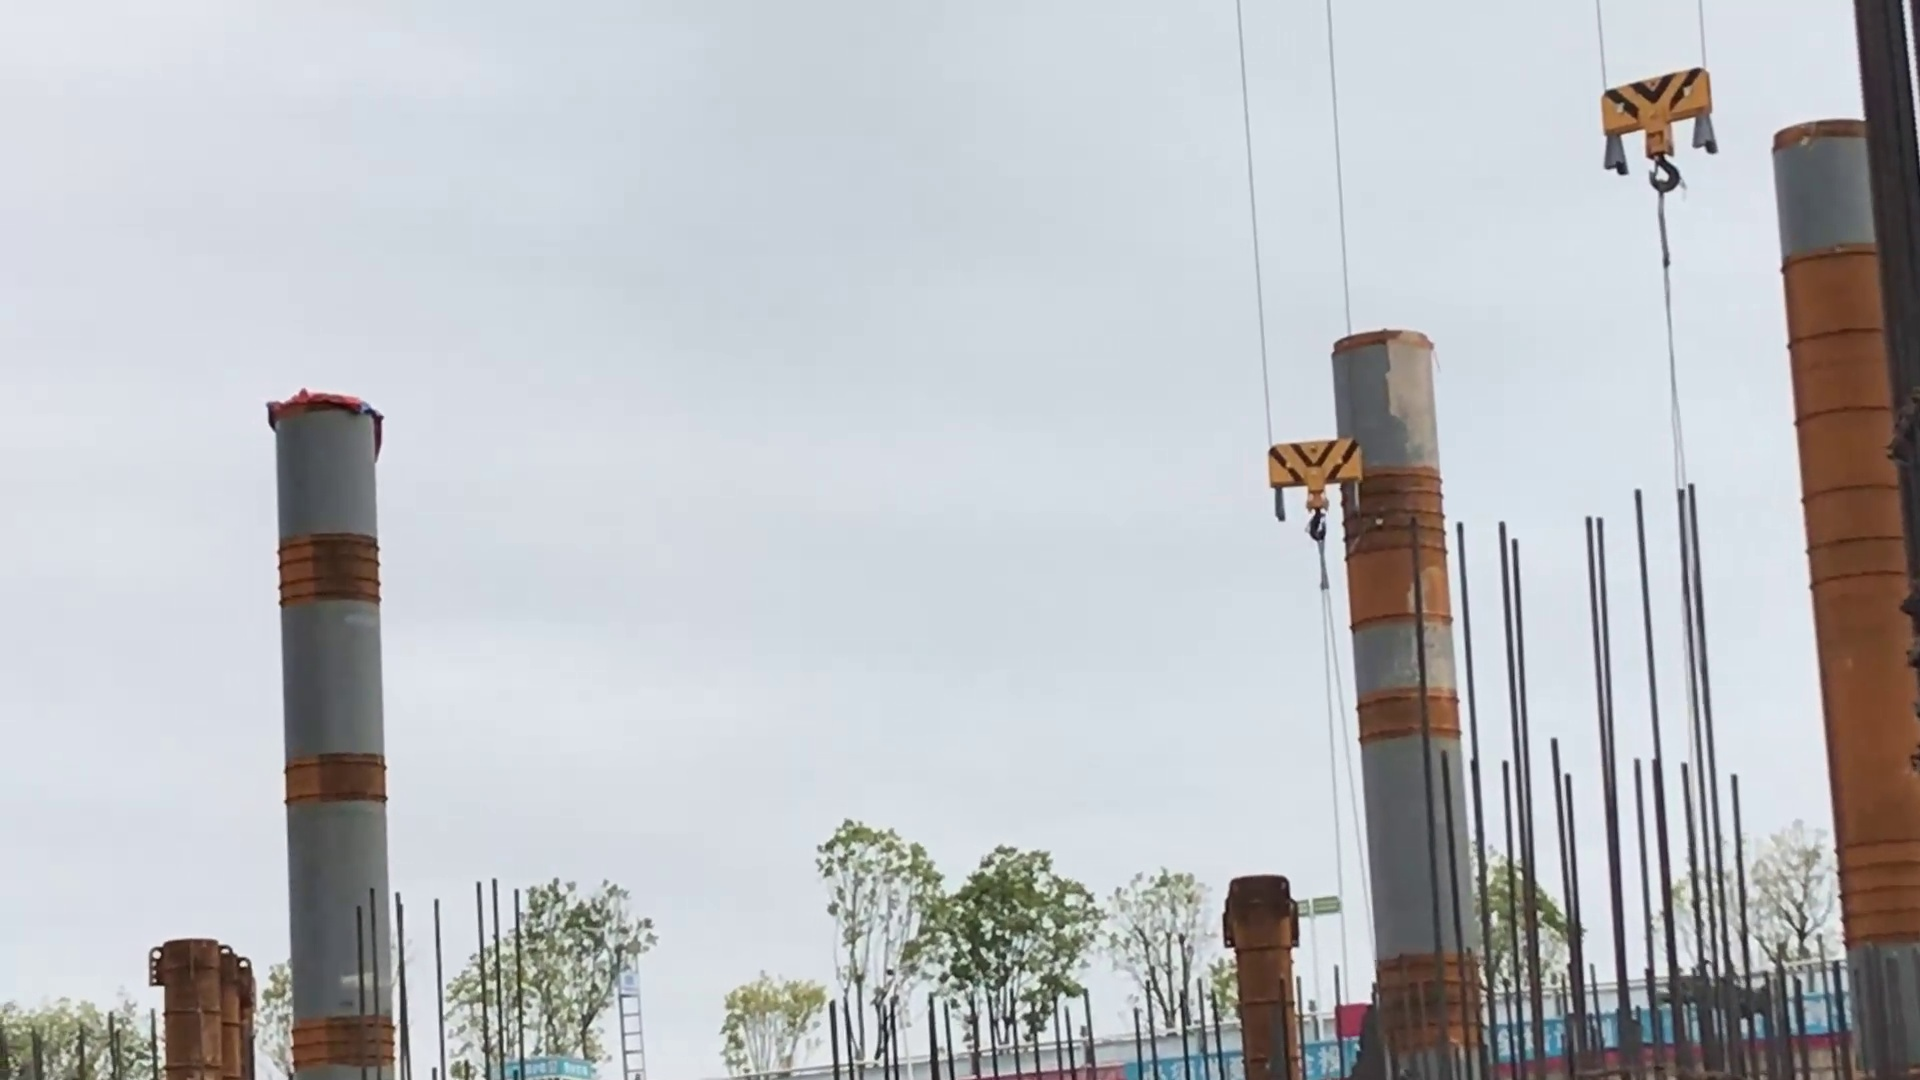hook: (1597, 63, 1720, 196), (1266, 436, 1364, 549)
slogan: (1114, 1033, 1366, 1080), (501, 1054, 593, 1080)
